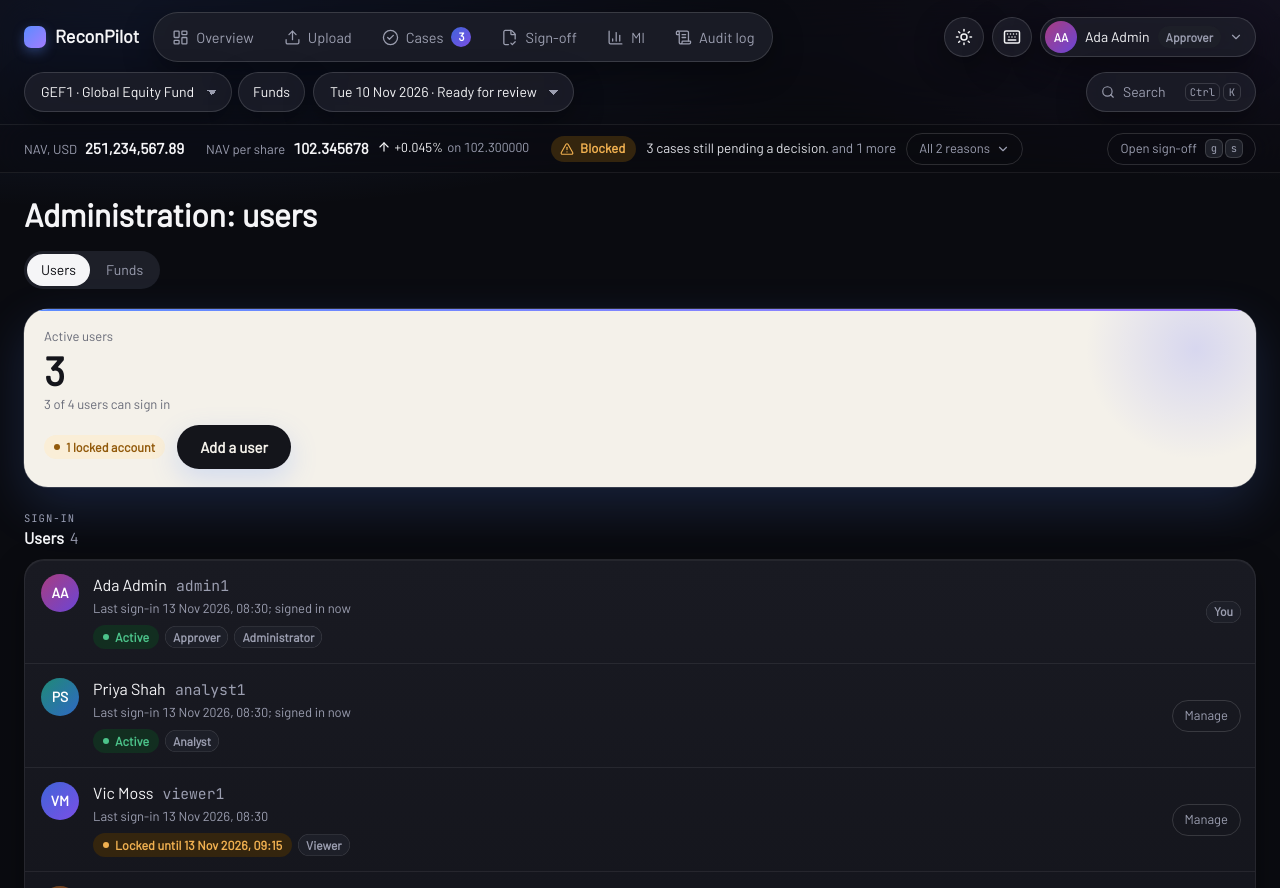
Test case: Administration: users › shows the server's refusal in its own words
Click the button "Add a user" at [234, 447], box [177, 425, 291, 469]
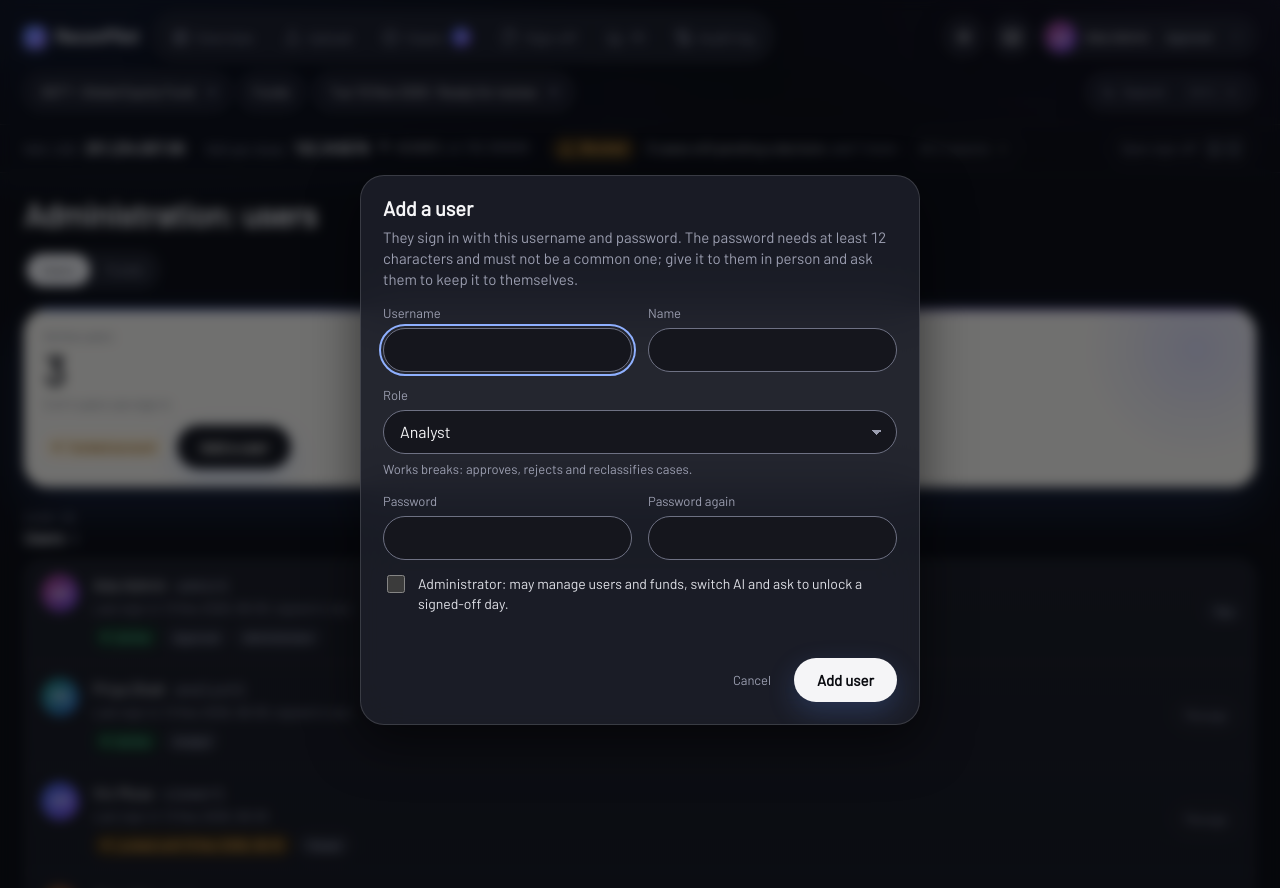
Type "nell" into the field labelled "Username" at [508, 350], box [383, 328, 632, 372]
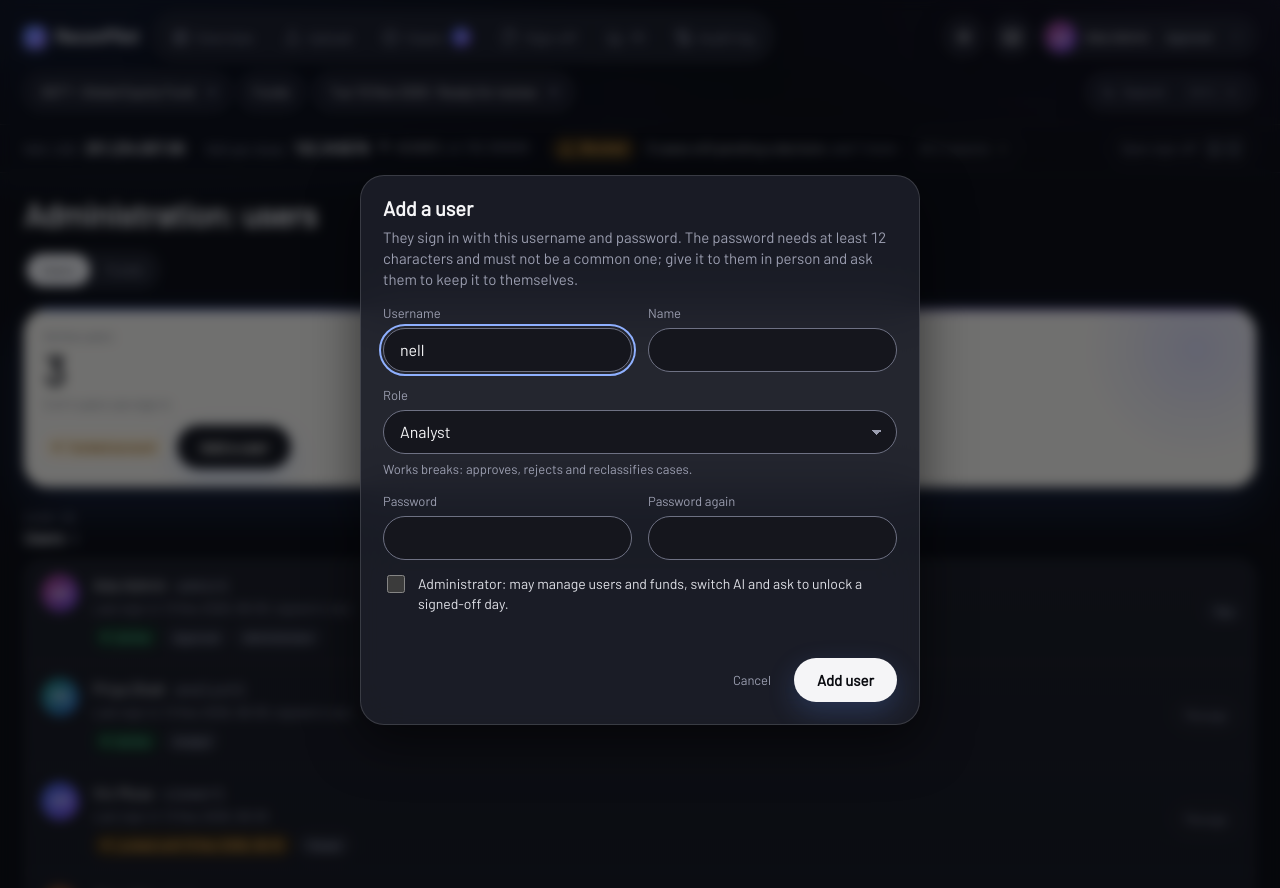
Type "Password1234" into the password field labelled "Password" at [508, 538], box [383, 516, 632, 560]
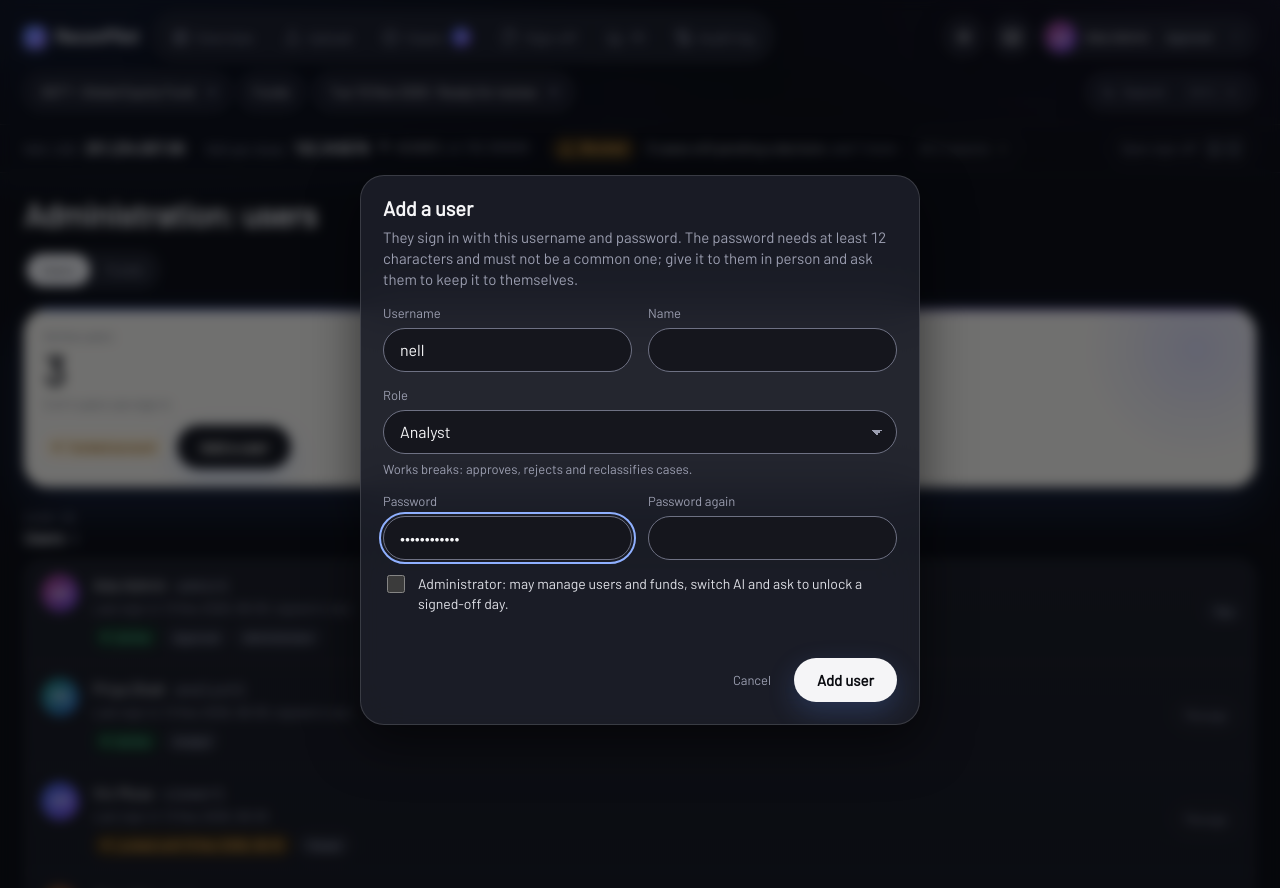
Type "Password1234" into the password field labelled "Password again" at [772, 538], box [648, 516, 897, 560]
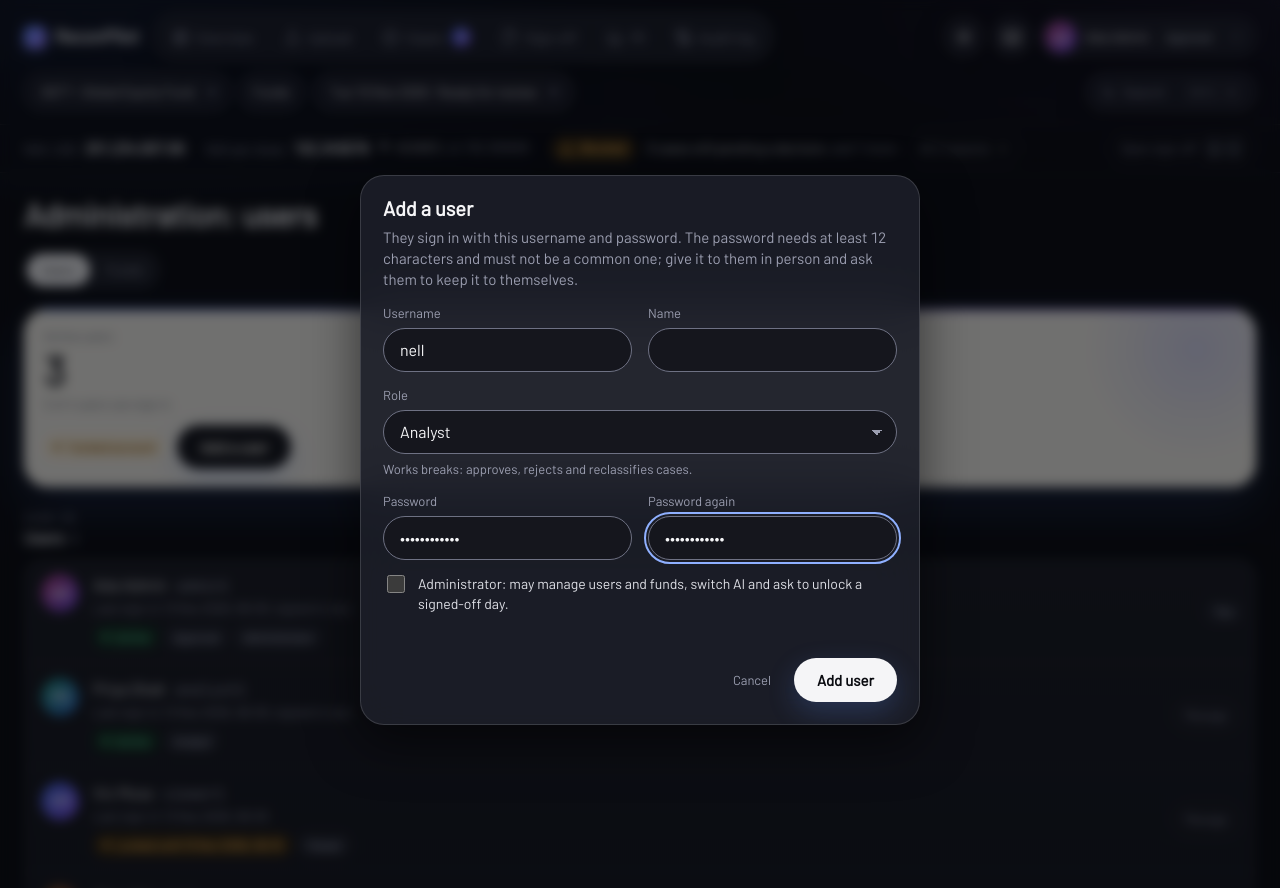
Click the button "Add user" at [846, 680], box [794, 658, 897, 702]
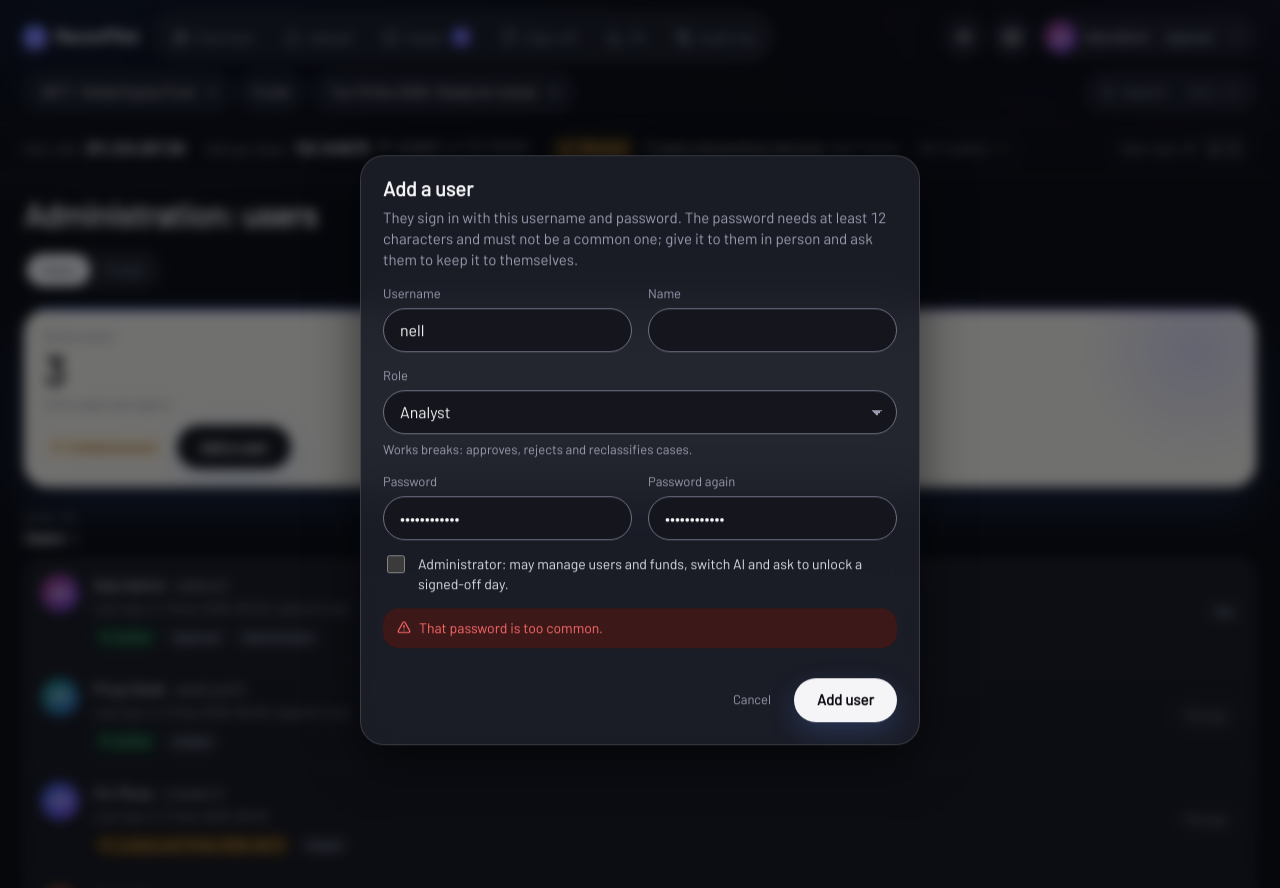
Expected: the message reads "That password is too common.", [419, 619, 603, 636]
